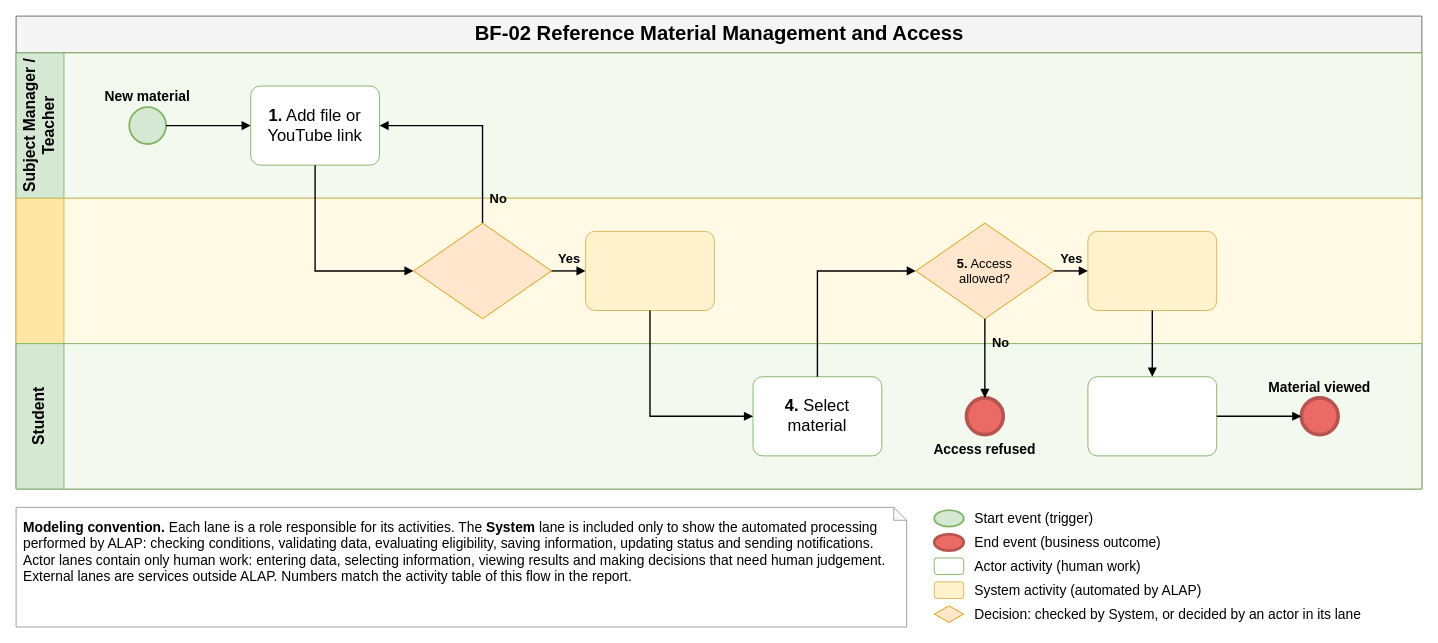
Image size: 1438x643. Some labels were removed from this diagram. The box of each missing label's shape, as (x1, y1, x2, y2) in pixels:
2. Input valid?: (413, 222, 552, 319)
3. Store and save material: (585, 230, 714, 310)
6. Issue access link: (1087, 230, 1217, 310)
7. View material: (1087, 376, 1217, 456)
System: (15, 197, 1422, 344)
